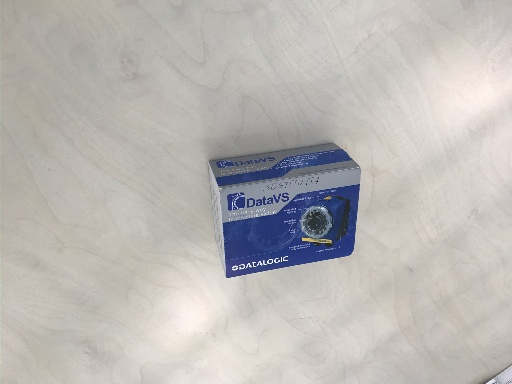Box: (208, 141, 364, 279)
